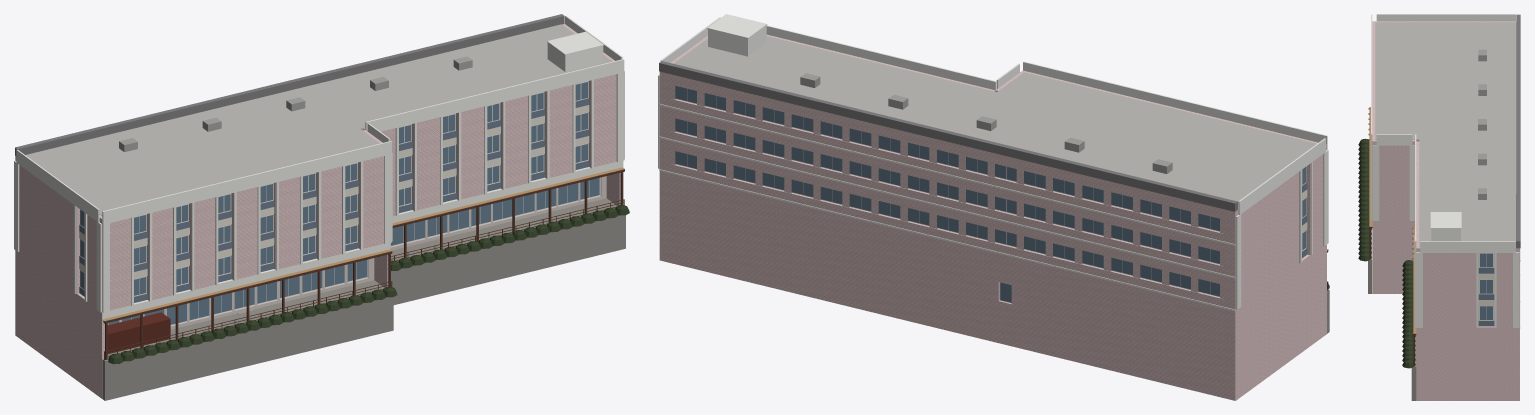
The picture shows the model from 3 angles, left to right: view 1: azimuth 30°, elevation 25°; view 2: azimuth 150°, elevation 25°; view 3: azimuth 270°, elevation 25°; orthographic projection. The views are drawn at different scales.
Parts seen in each view (by area): view 1: s03__pink-tile-wall, s03__roof, s03__white-slab-wall, s03__retaining-stone-wall, s03__glass, s03__door-glass, s03__gray-parapet-wall, s03__ivy-green, s03__pergola-wood, s03__floor-slab, s03__spandrel-blue, s03__frame (+6 smaller); view 2: s03__pink-tile-wall, s03__roof, s03__glass, s03__white-slab-wall, s03__gray-parapet-wall, s03__frame, s03__ac, s03__trim; view 3: s03__roof, s03__pink-tile-wall, s03__white-slab-wall, s03__ivy-green, s03__gray-parapet-wall, s03__glass, s03__ac, s03__trim, s03__retaining-stone-wall, s03__pergola-sheet, s03__pergola-wood, s03__spandrel-blue (+3 smaller).
Part boxes in pixels (left/top/right/bottom): s03__pink-tile-wall: left=15, top=24, right=623, bottom=398; s03__roof: left=25, top=24, right=612, bottom=215; s03__white-slab-wall: left=14, top=15, right=624, bottom=319; s03__retaining-stone-wall: left=102, top=215, right=625, bottom=400; s03__glass: left=80, top=82, right=587, bottom=295; s03__door-glass: left=107, top=178, right=599, bottom=324; s03__gray-parapet-wall: left=15, top=14, right=564, bottom=155; s03__ivy-green: left=108, top=205, right=629, bottom=364; s03__pergola-wood: left=103, top=169, right=624, bottom=360; s03__floor-slab: left=81, top=198, right=616, bottom=357; s03__spandrel-blue: left=79, top=98, right=589, bottom=302; s03__frame: left=80, top=81, right=599, bottom=325; s03__pink-tile-wall: left=659, top=34, right=1326, bottom=400; s03__roof: left=673, top=36, right=1316, bottom=206; s03__glass: left=675, top=86, right=1306, bottom=296; s03__white-slab-wall: left=658, top=17, right=1328, bottom=311; s03__gray-parapet-wall: left=659, top=61, right=1237, bottom=211; s03__frame: left=675, top=89, right=1306, bottom=303; s03__ac: left=800, top=73, right=1172, bottom=173; s03__trim: left=707, top=14, right=767, bottom=38; s03__roof: left=1375, top=22, right=1516, bottom=246; s03__pink-tile-wall: left=1372, top=21, right=1519, bottom=400; s03__white-slab-wall: left=1371, top=14, right=1520, bottom=328; s03__ivy-green: left=1358, top=138, right=1415, bottom=368; s03__gray-parapet-wall: left=1516, top=14, right=1520, bottom=248; s03__glass: left=1480, top=253, right=1492, bottom=319; s03__ac: left=1478, top=49, right=1486, bottom=199; s03__trim: left=1430, top=212, right=1461, bottom=228; s03__retaining-stone-wall: left=1368, top=228, right=1416, bottom=400; s03__pergola-sheet: left=1369, top=107, right=1416, bottom=333; s03__pergola-wood: left=1368, top=108, right=1416, bottom=366; s03__spandrel-blue: left=1478, top=268, right=1494, bottom=326.
Size of the model in its own units: 72.35 by 24.92 by 21.78.
Materials: 19 (1 with a texture image).
